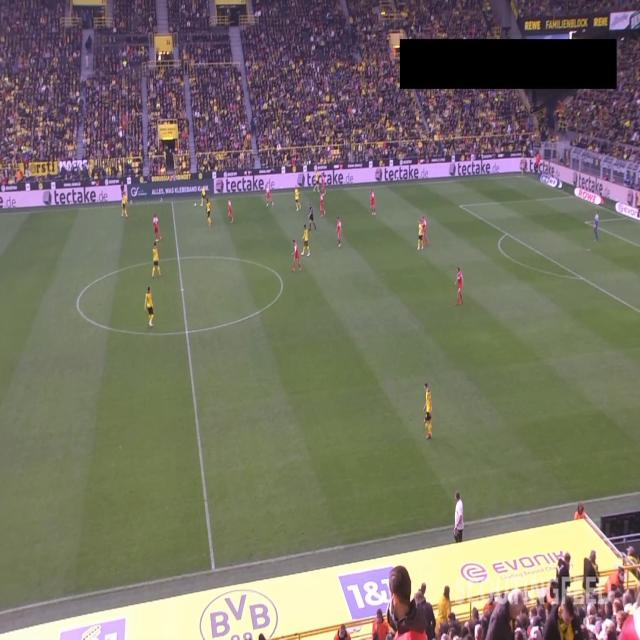ball: (194, 202, 197, 208)
